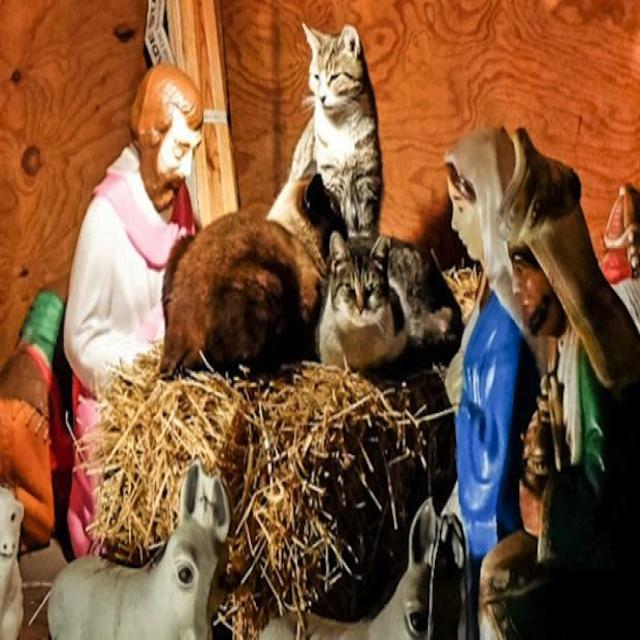cat: (161, 175, 345, 375), (316, 233, 462, 369), (289, 24, 382, 237)
